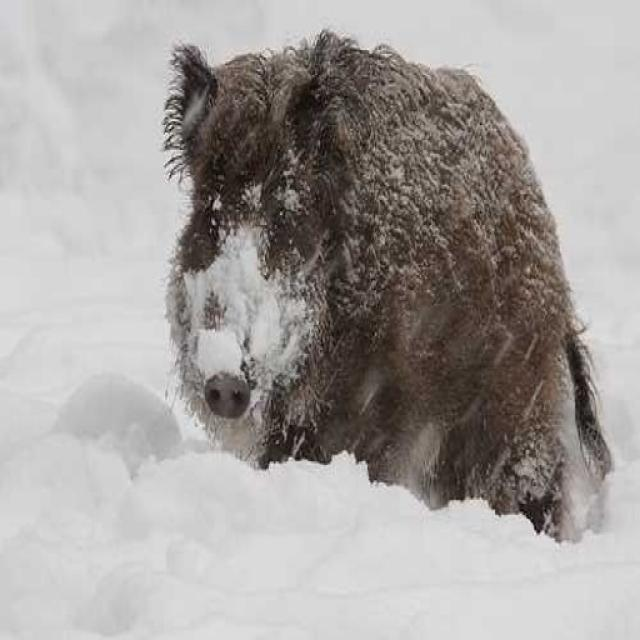pig: (120, 4, 640, 566)
